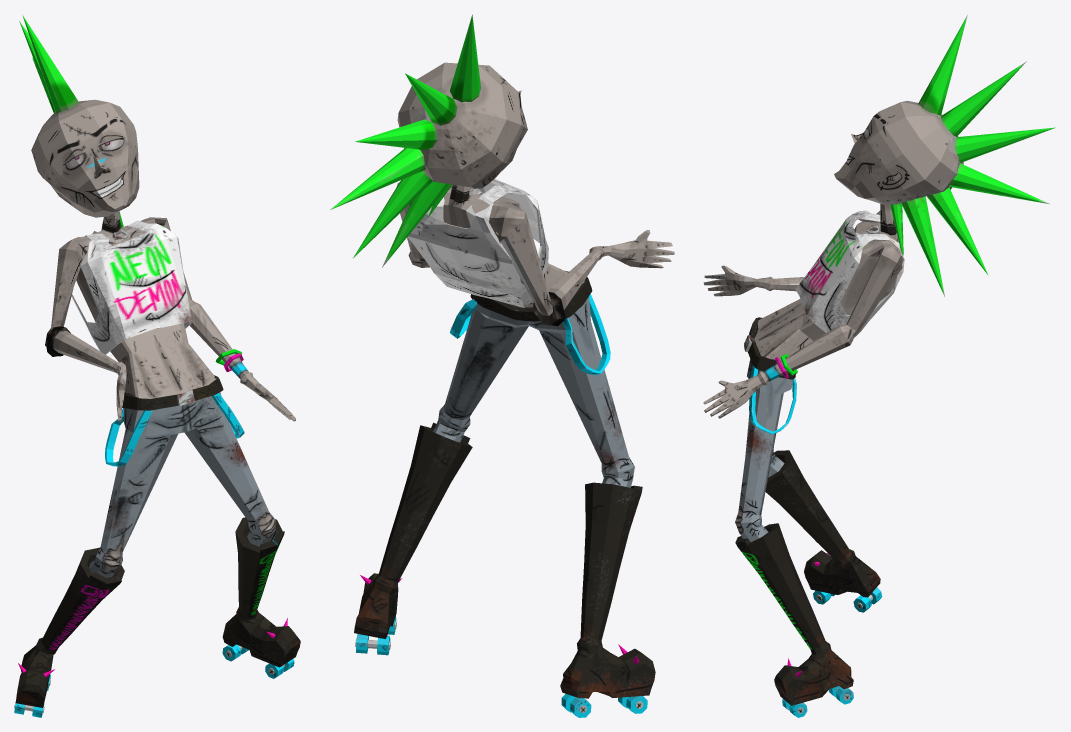
File: punkAnimation_000071.obj
3 views of the same model, side by side, from view 1: azimuth 30°, elevation 25°; view 2: azimuth 150°, elevation 25°; view 3: azimuth 270°, elevation 25° (orthographic). The views are drawn at different scales.
Parts seen in each view (by area): view 1: Cube.004_Cube.003; view 2: Cube.004_Cube.003; view 3: Cube.004_Cube.003.
Boxes of the visible parts, bbox=[...] form: Cube.004_Cube.003: bbox=[14, 15, 300, 717]; Cube.004_Cube.003: bbox=[330, 14, 674, 717]; Cube.004_Cube.003: bbox=[703, 15, 1055, 717].
Size of the model in its own units: 2.92 by 6.69 by 3.46.
